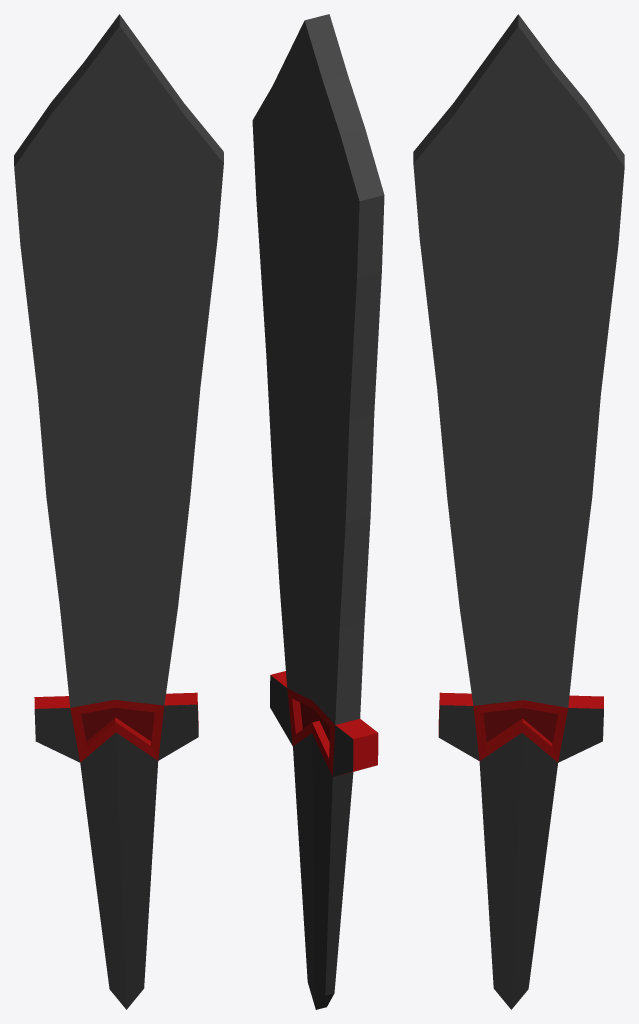
Rendered from sword.fbx.
3 renders of one model, left to right at view 1: azimuth 90°, elevation 25°; view 2: azimuth 210°, elevation 25°; view 3: azimuth 270°, elevation 25°, orthographic.
Parts seen in each view (by area): view 1: Plane; view 2: Plane; view 3: Plane.
Boxes of the visible parts, x1,y1,x2,y2 form: Plane: (14,14,223,1009); Plane: (252,14,384,1009); Plane: (413,14,624,1009).
Bounding box in the file's own units: 18.28 × 560 × 108.
